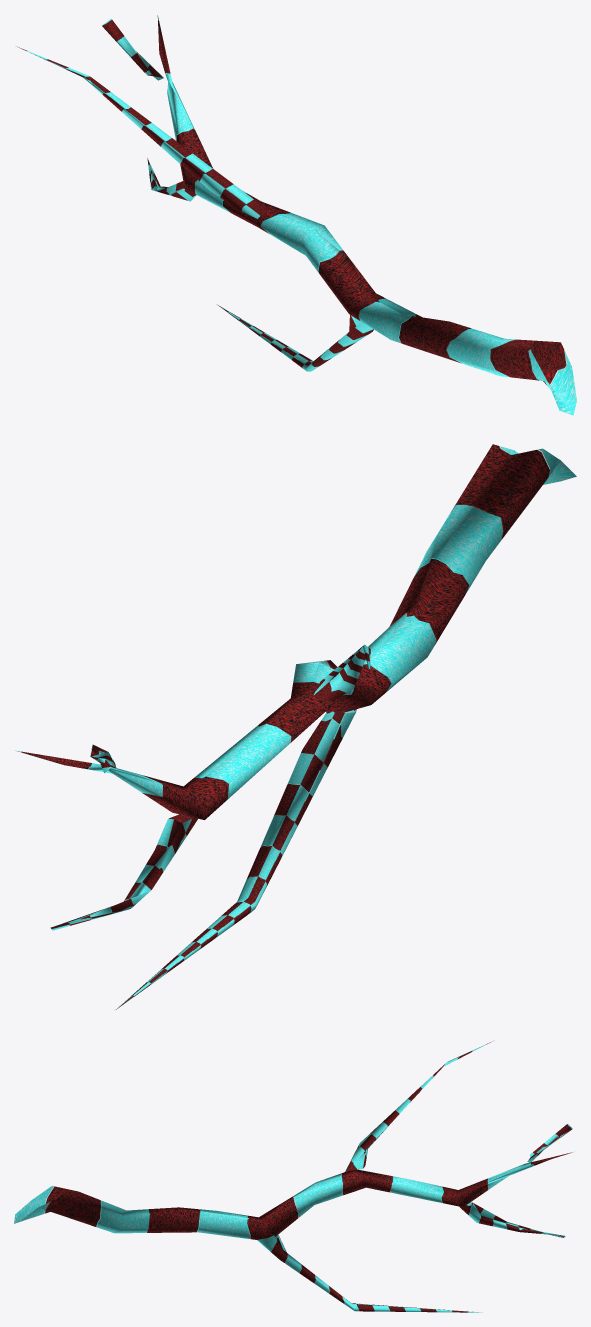
3 views of the same model, one above another, from view 1: azimuth 30°, elevation 25°; view 2: azimuth 150°, elevation 25°; view 3: azimuth 270°, elevation 25° (orthographic). The views are drawn at different scales.
Parts seen in each view (by area): view 1: SM_VFX_Twigs_SM_VFX_TwigD_LOD0; view 2: SM_VFX_Twigs_SM_VFX_TwigD_LOD0; view 3: SM_VFX_Twigs_SM_VFX_TwigD_LOD0.
Part boxes in pixels (bbox=[...]): SM_VFX_Twigs_SM_VFX_TwigD_LOD0: bbox=[17, 15, 576, 415]; SM_VFX_Twigs_SM_VFX_TwigD_LOD0: bbox=[15, 444, 576, 1010]; SM_VFX_Twigs_SM_VFX_TwigD_LOD0: bbox=[14, 1042, 574, 1312].
Bounding box in the file's own units: 1.31 × 1.65 × 4.06.
1 material, 1 textured.
